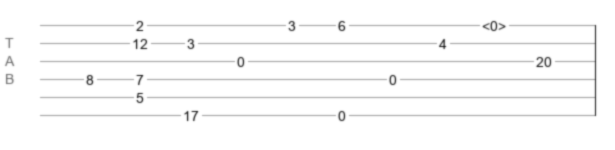0: (237, 54, 245, 64), (338, 108, 346, 118), (389, 72, 397, 82)
12: (132, 36, 148, 46)
17: (183, 108, 199, 118)
2: (136, 18, 144, 28)
20: (536, 54, 552, 64)
3: (187, 36, 195, 46), (288, 18, 296, 28)
4: (439, 36, 447, 46)
5: (136, 90, 144, 100)
6: (338, 18, 346, 28)
7: (136, 72, 144, 82)
8: (86, 72, 94, 82)
harmonic: (482, 18, 506, 28)
